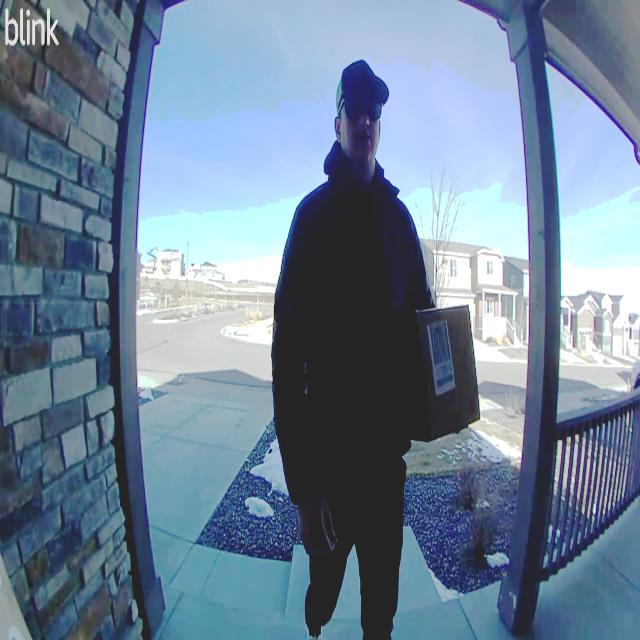Box: (417, 303, 481, 438)
